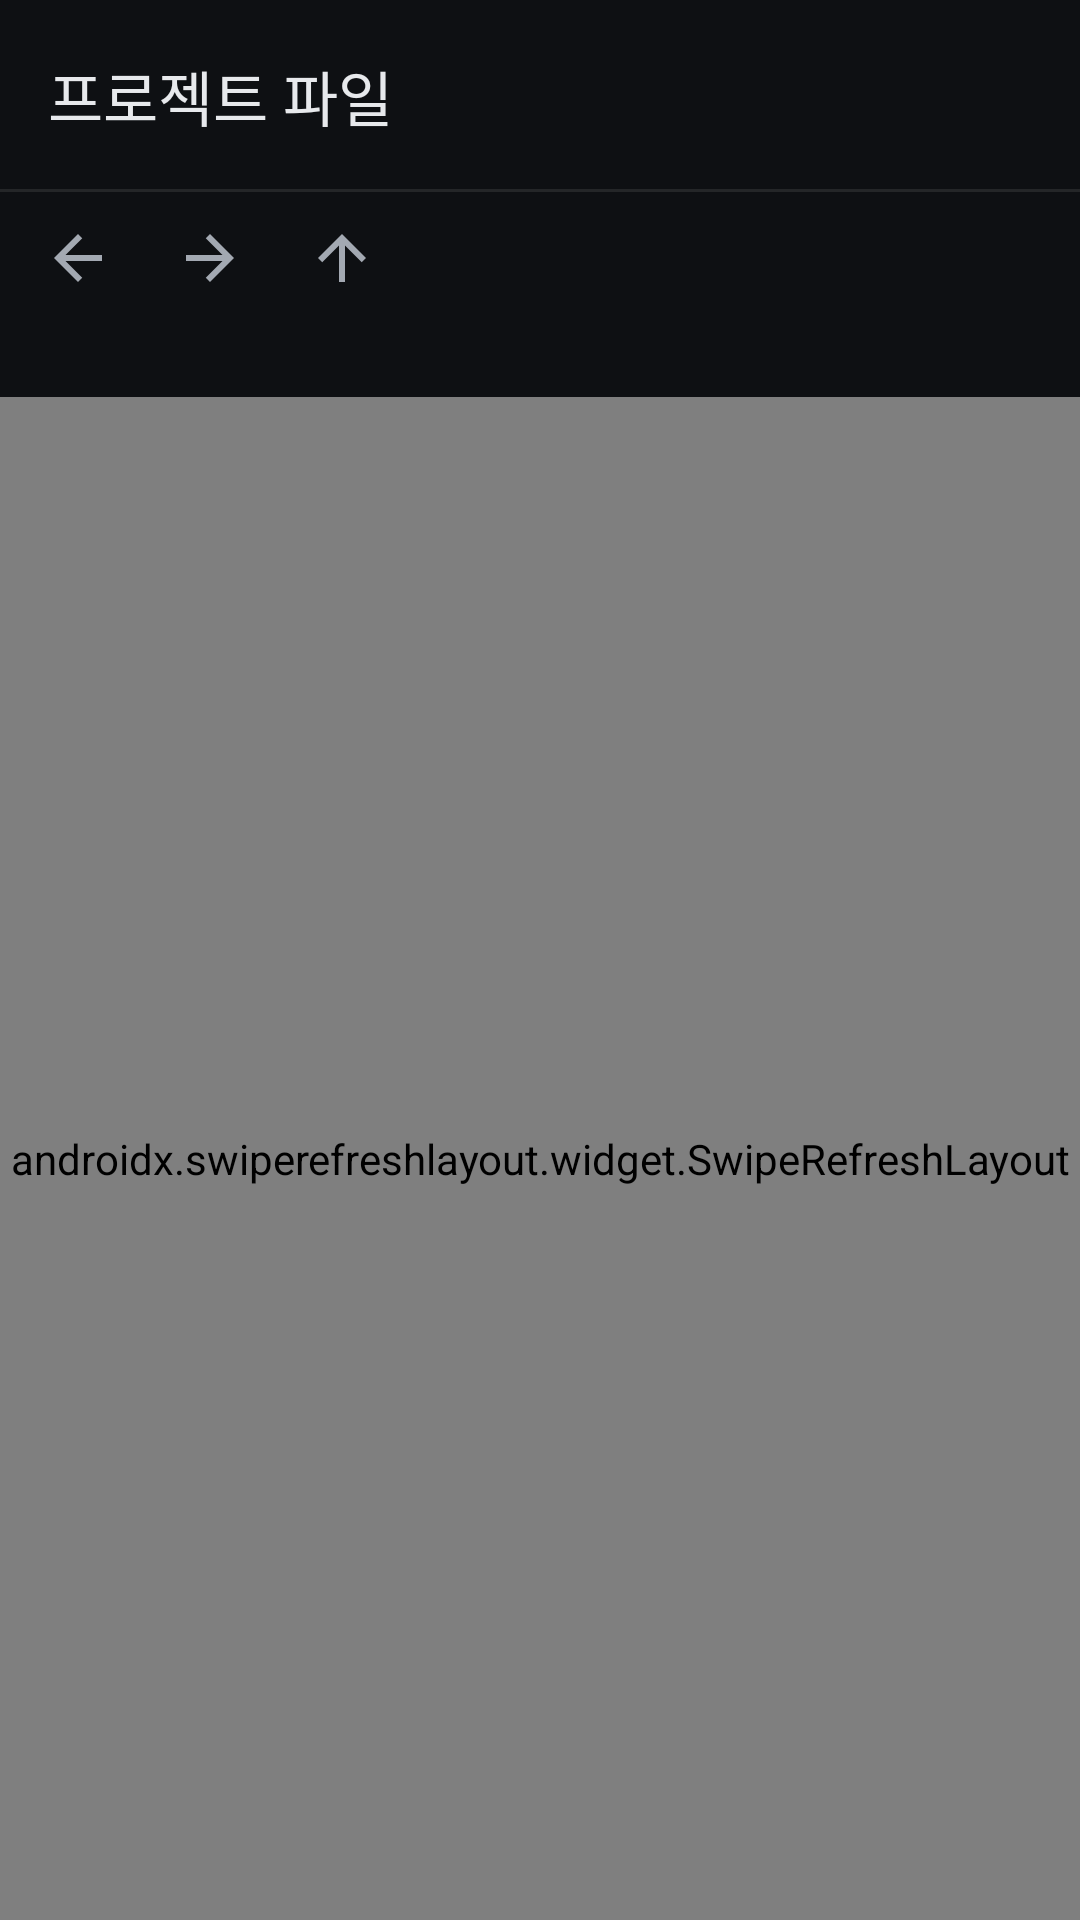

Icon bounding boxes for this 1080px×1920px phone screenshot, format (x1=x1, y1=y1, x2=x2, y2=y2):
뒤로 (이전 폴더): (x1=54, y1=234, x2=102, y2=282)
상위 폴더: (x1=318, y1=234, x2=366, y2=282)
앞으로: (x1=186, y1=234, x2=234, y2=282)
